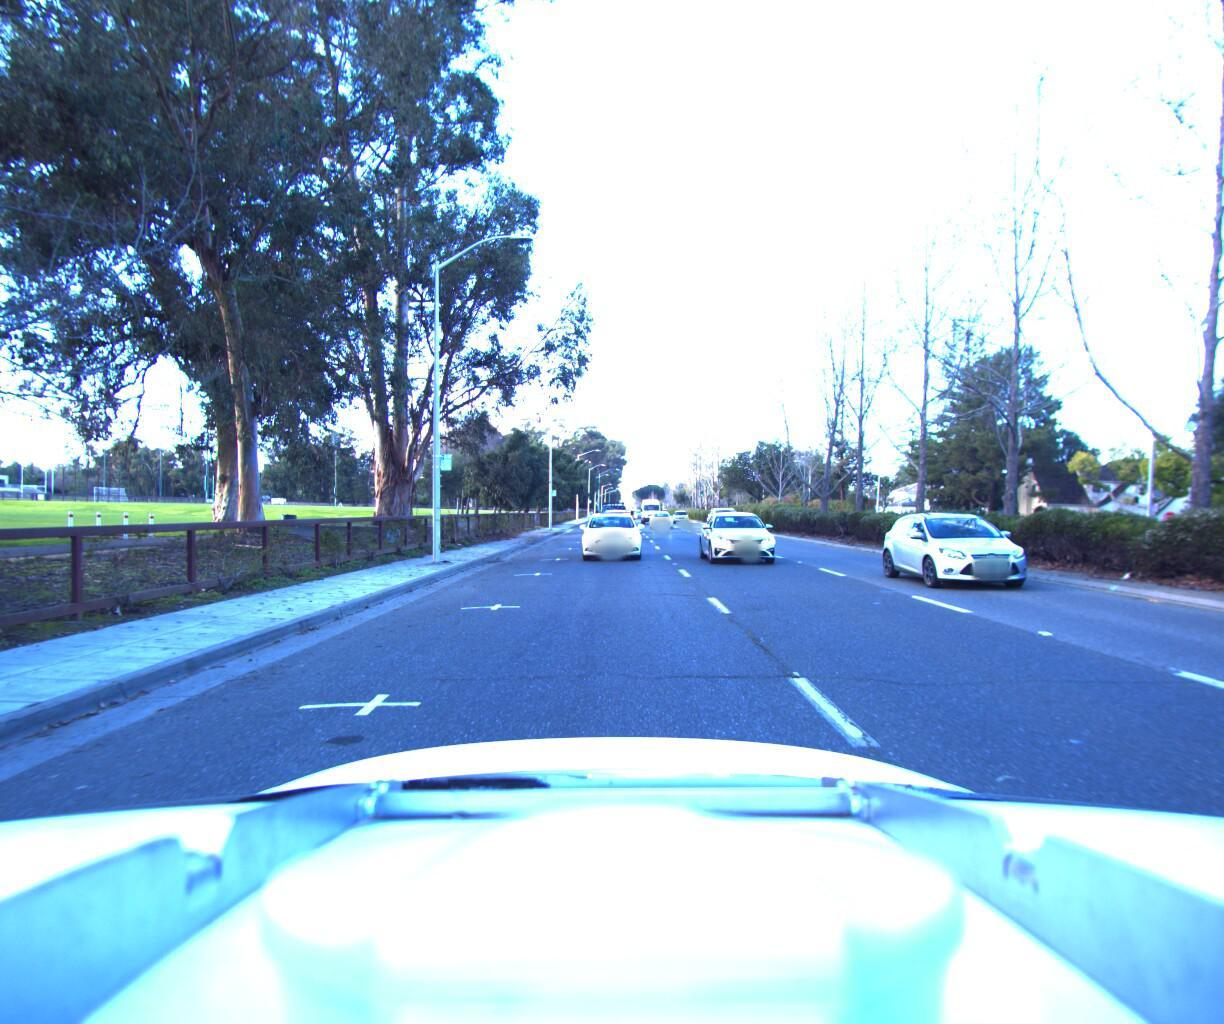car: (898, 504, 1084, 598), (701, 505, 786, 567), (582, 506, 645, 558), (705, 500, 746, 531), (598, 504, 636, 537), (597, 492, 627, 529), (638, 495, 660, 520), (649, 507, 676, 526)
